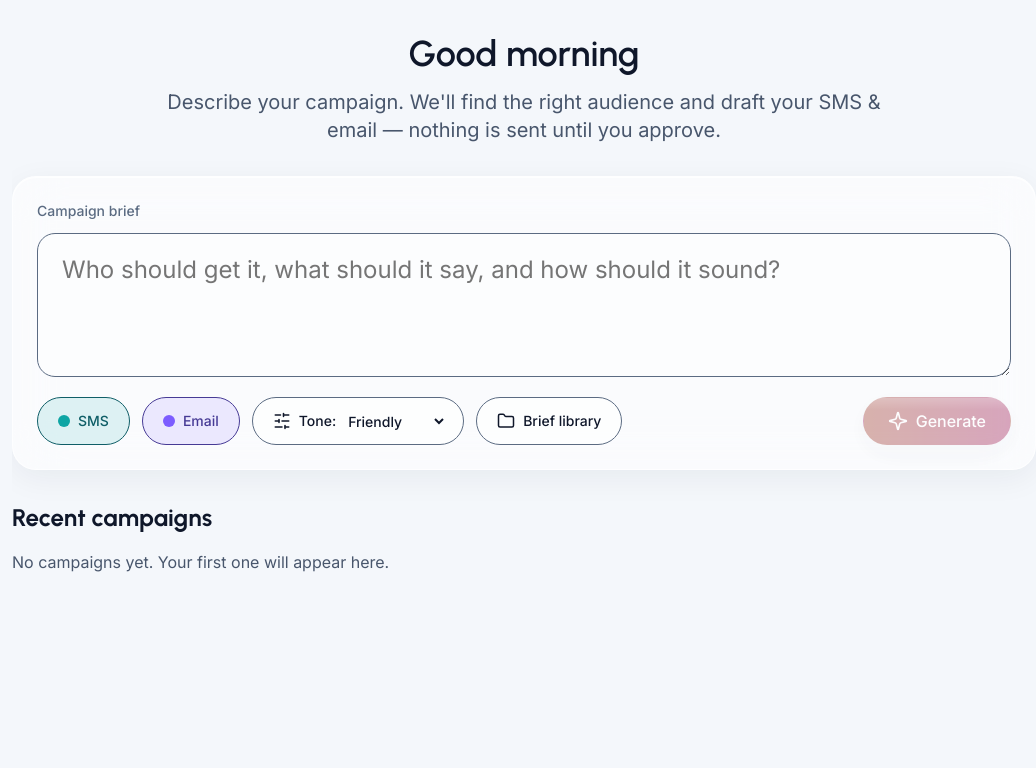
Scenario: ComposerView › needs at least one channel
Replace the text in the text box labelled "Campaign brief" with "Bir brief". click: (524, 305)
box: [37,233,1011,377]
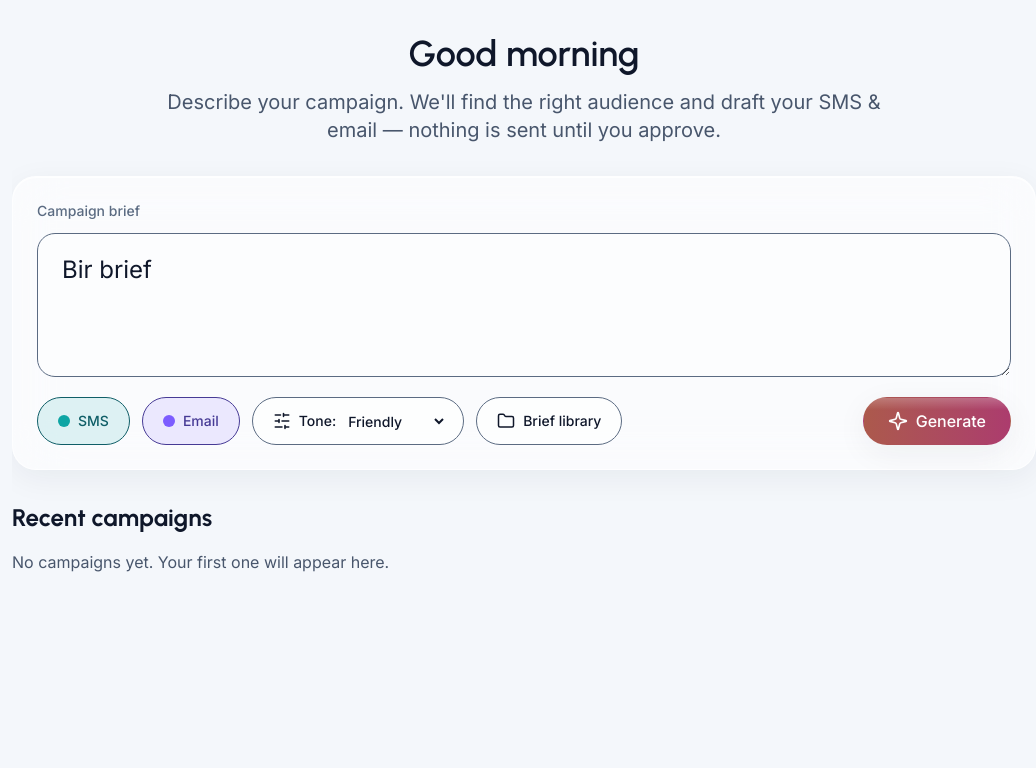
Click the button "SMS". click: click(83, 421)
box: [37,397,130,445]
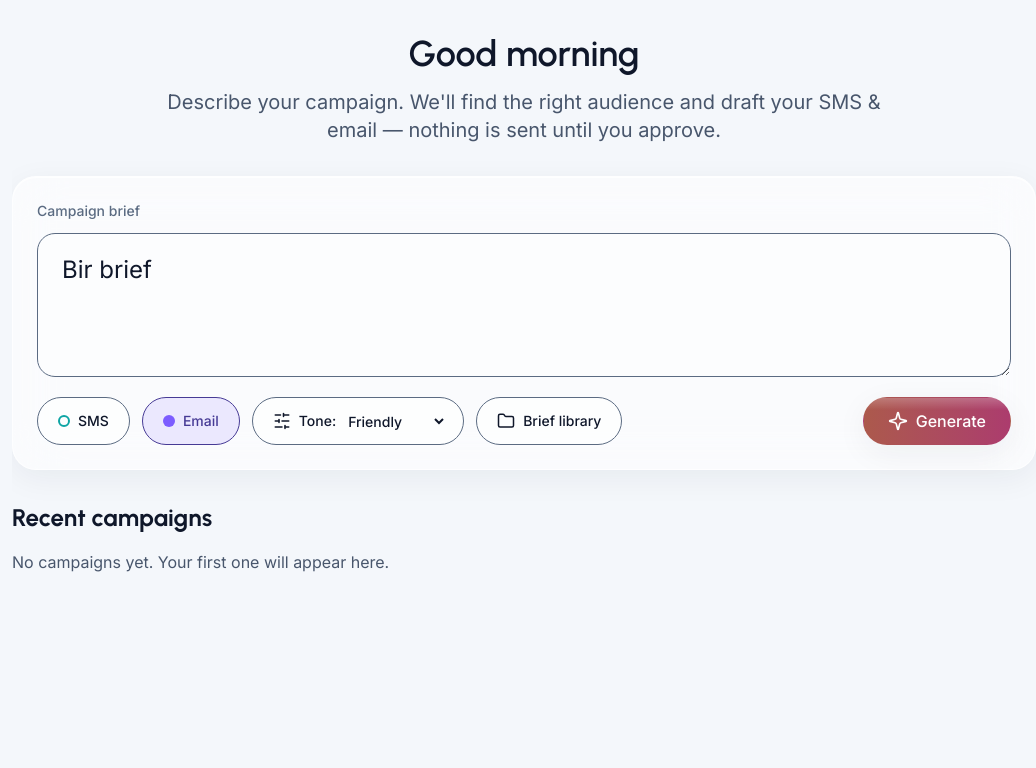
Click the button "Email". click: click(191, 421)
box: [142,397,240,445]
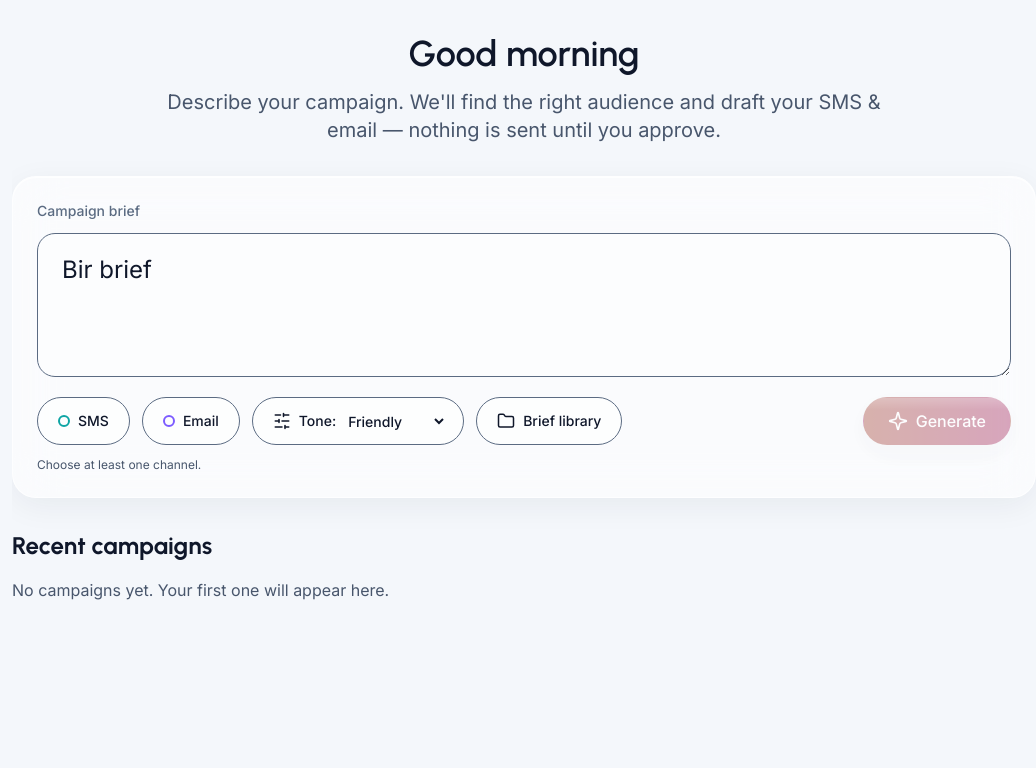
Expected: the submit button is disabled, [863,397,1011,445]
Expected: the text "Choose at least one channel." is shown, [37,457,201,472]
